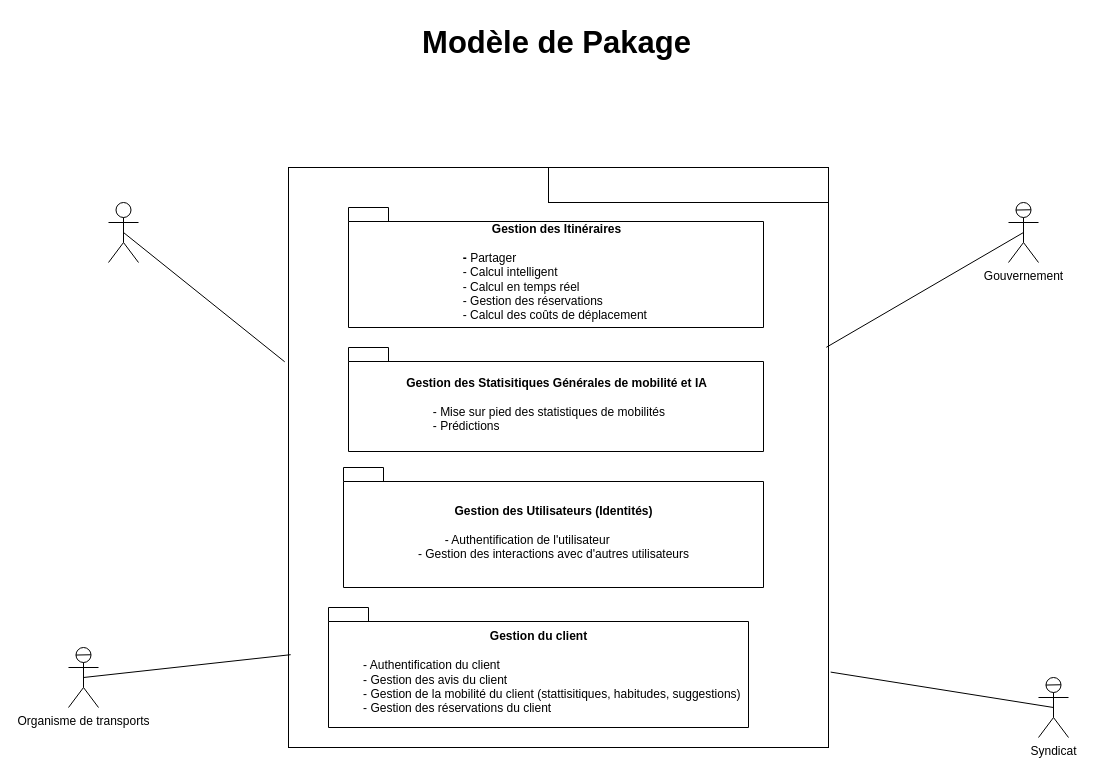
The diagram is 1093 pixels wide and 775 high, and some of its shapes have lost their labels. Each missing label, with the box of its shape:
Application de Gestion & Suivi des itinéraires: (548, 166, 828, 202)
Client: (108, 202, 138, 262)
